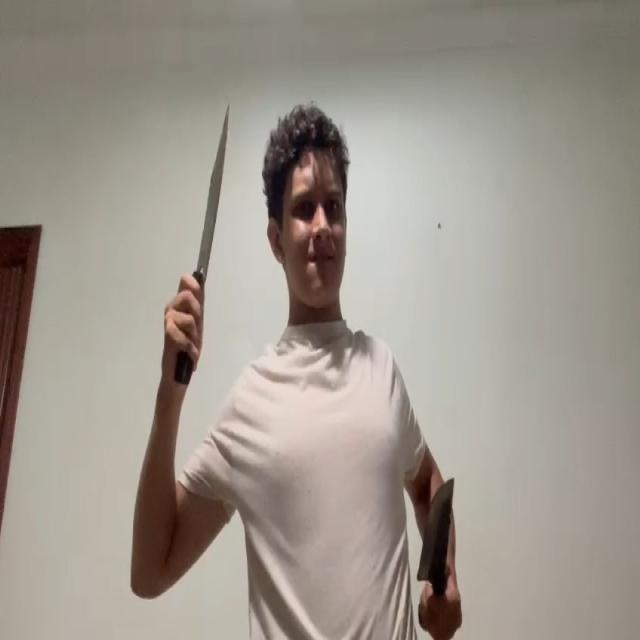knife: (194, 105, 230, 283), (416, 474, 455, 588)
